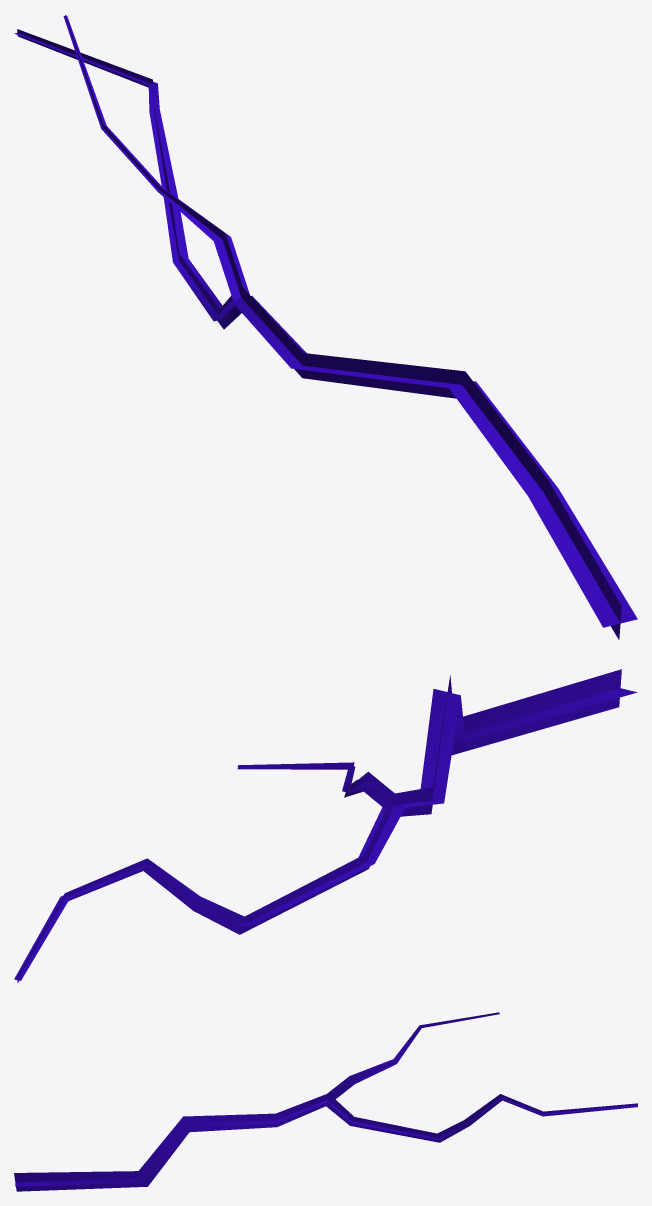
File: SM_EFF_Lightning_A_01.mo.fbx
3 renders of one model, top to bottom at view 1: azimuth 30°, elevation 25°; view 2: azimuth 150°, elevation 25°; view 3: azimuth 270°, elevation 25°, orthographic. The views are drawn at different scales.
Visible parts, largest first — view 1: SM_EFF_Lightning_A_01.mo; view 2: SM_EFF_Lightning_A_01.mo; view 3: SM_EFF_Lightning_A_01.mo.
Part boxes in pixels (box(x1,y1,x2,y2)): SM_EFF_Lightning_A_01.mo: box(14, 15, 637, 639); SM_EFF_Lightning_A_01.mo: box(14, 669, 637, 982); SM_EFF_Lightning_A_01.mo: box(14, 1012, 637, 1191).
Size of the model in its own units: 1.63 by 2.51 by 9.02.
